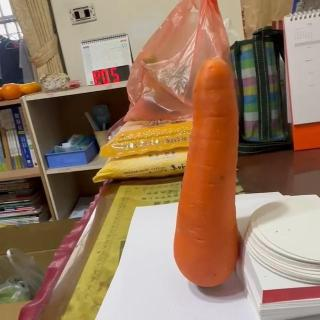carrot: (170, 59, 240, 288)
